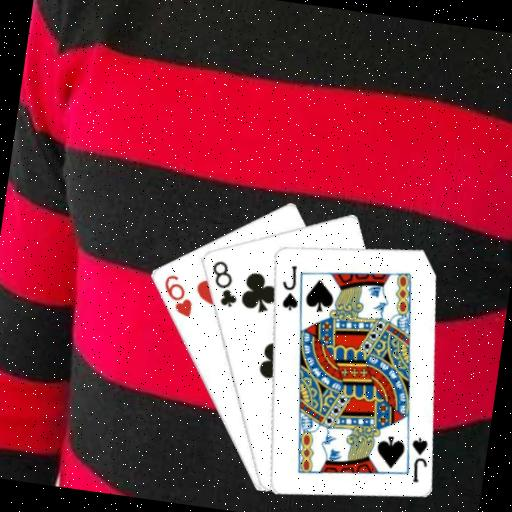6H: (156, 270, 198, 320)
8C: (204, 256, 243, 310)
JS: (275, 260, 305, 313), (403, 433, 432, 486)
